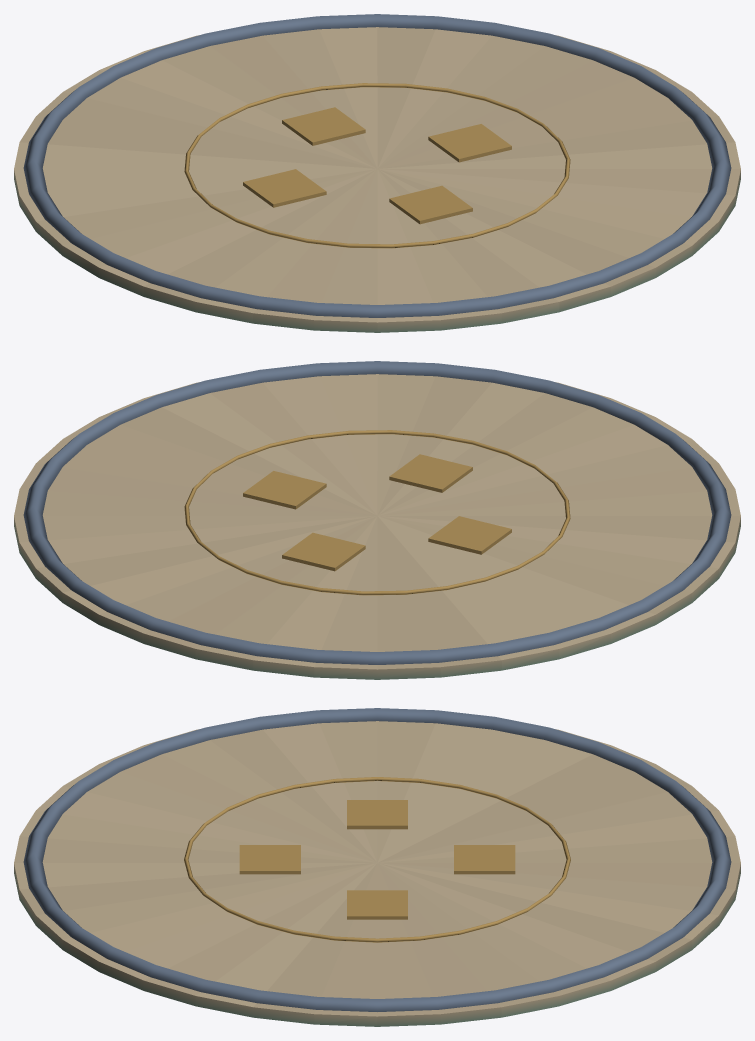
The model's file is play_rug.glb.
3 renders of one model, top to bottom at view 1: azimuth 30°, elevation 25°; view 2: azimuth 150°, elevation 25°; view 3: azimuth 270°, elevation 25°, orthographic.
Parts seen in each view (by area): view 1: play_rug; view 2: play_rug; view 3: play_rug.
Part boxes in pixels (<box>): play_rug: <box>14,14,740,332</box>; play_rug: <box>14,361,740,679</box>; play_rug: <box>14,708,740,1026</box>.
Bounding box in the file's own units: 1.9 × 0.0569 × 1.9.
